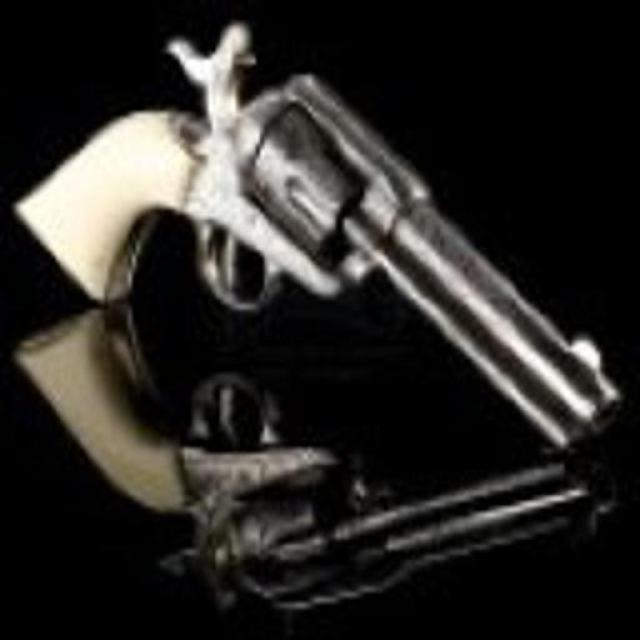pistol: (7, 15, 620, 469)
